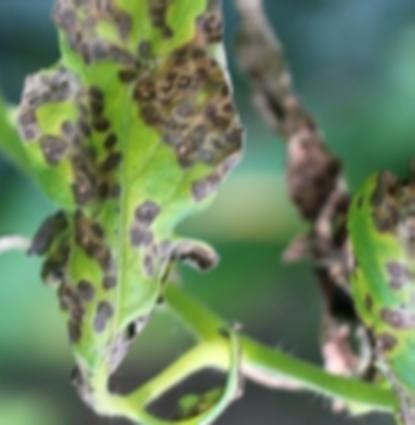Tomato leaf bacterial spot: (19, 0, 262, 389), (331, 154, 415, 425)
